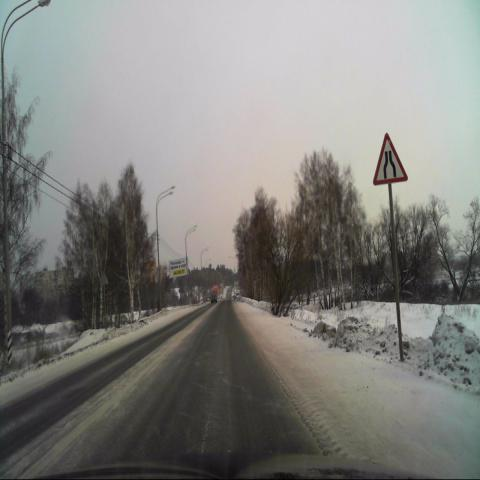1_20: (373, 132, 407, 186)
